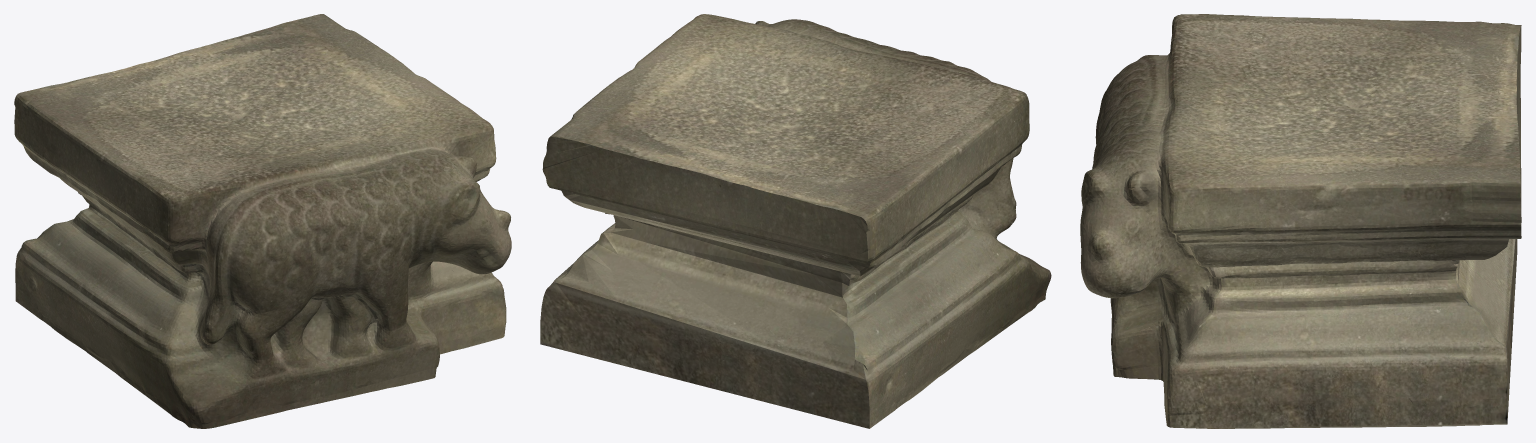
The model's file is 11_tegiac_final.glb.
3 renders of one model, left to right at view 1: azimuth 30°, elevation 25°; view 2: azimuth 150°, elevation 25°; view 3: azimuth 270°, elevation 25°, orthographic. The views are drawn at different scales.
Size of the model in its own units: 0.3451 by 0.2118 by 0.3539.
1 material, 1 textured.
